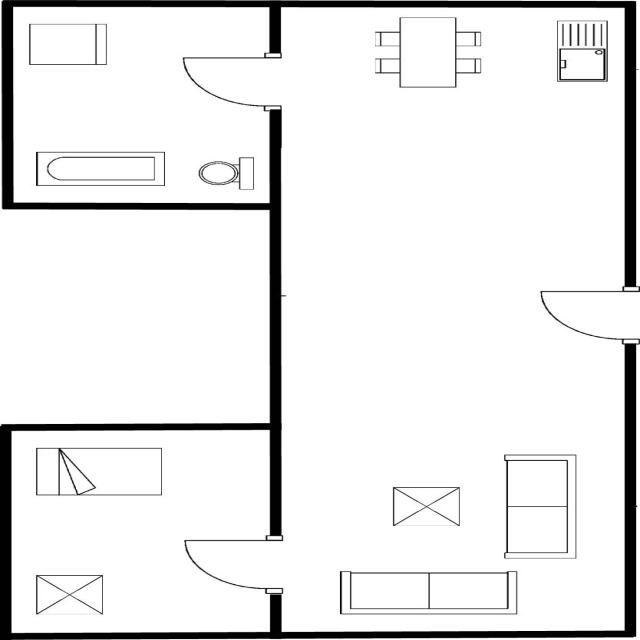bed: (29, 444, 168, 499)
coffee_table: (29, 571, 109, 618), (385, 482, 465, 528)
dining_table: (370, 14, 486, 91)
large_sink: (191, 154, 259, 192)
large_sofa: (495, 451, 580, 561), (333, 568, 523, 616)
sink: (549, 16, 612, 85)
small_sofa: (24, 20, 111, 68)
tub: (31, 148, 171, 190)
